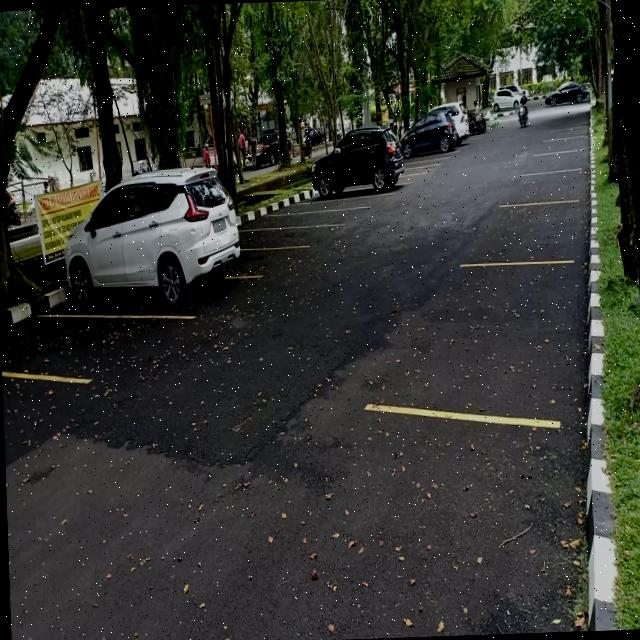empty: (435, 256, 582, 425), (0, 310, 180, 388), (480, 198, 582, 266)
occupied: (56, 205, 244, 322)
